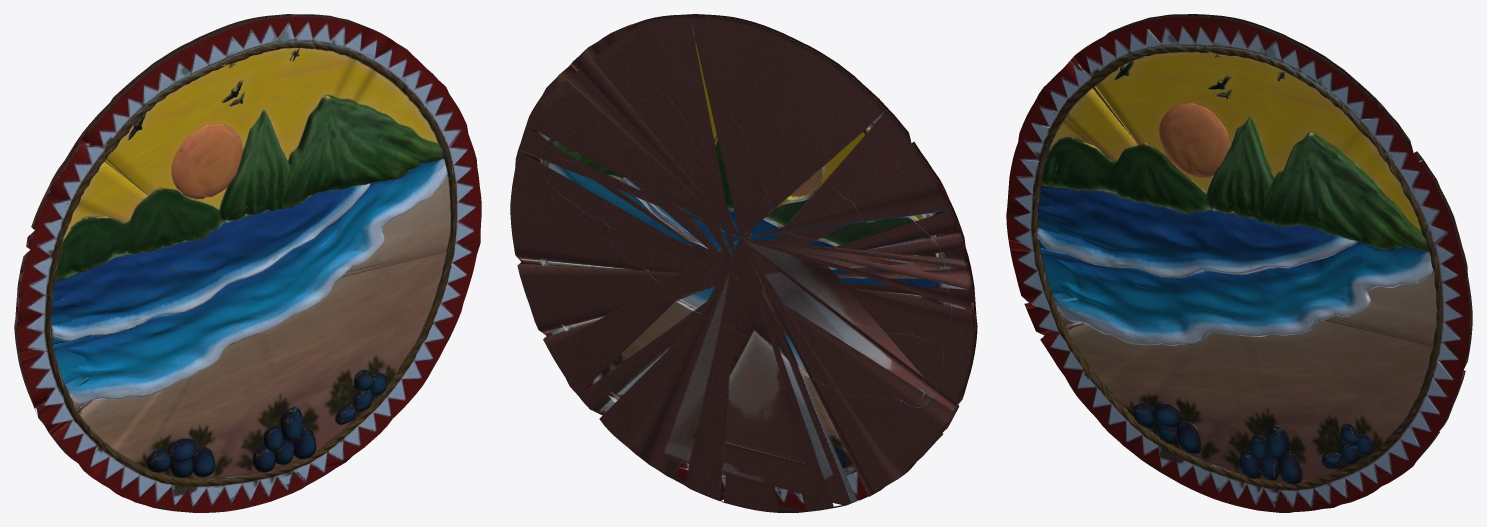
File: sunset-shores.glb
The picture shows the model from 3 angles, left to right: view 1: azimuth 30°, elevation 25°; view 2: azimuth 150°, elevation 25°; view 3: azimuth 330°, elevation 25°; orthographic projection.
Parts seen in each view (by area): view 1: sunset-shores; view 2: sunset-shores; view 3: sunset-shores.
Boxes of the visible parts, <box> form: sunset-shores: <box>14,14,481,512</box>; sunset-shores: <box>510,14,977,512</box>; sunset-shores: <box>1006,14,1472,512</box>.
Bounding box in the file's own units: 0.2501 × 0.25 × 0.0108.
1 material, 1 textured.
